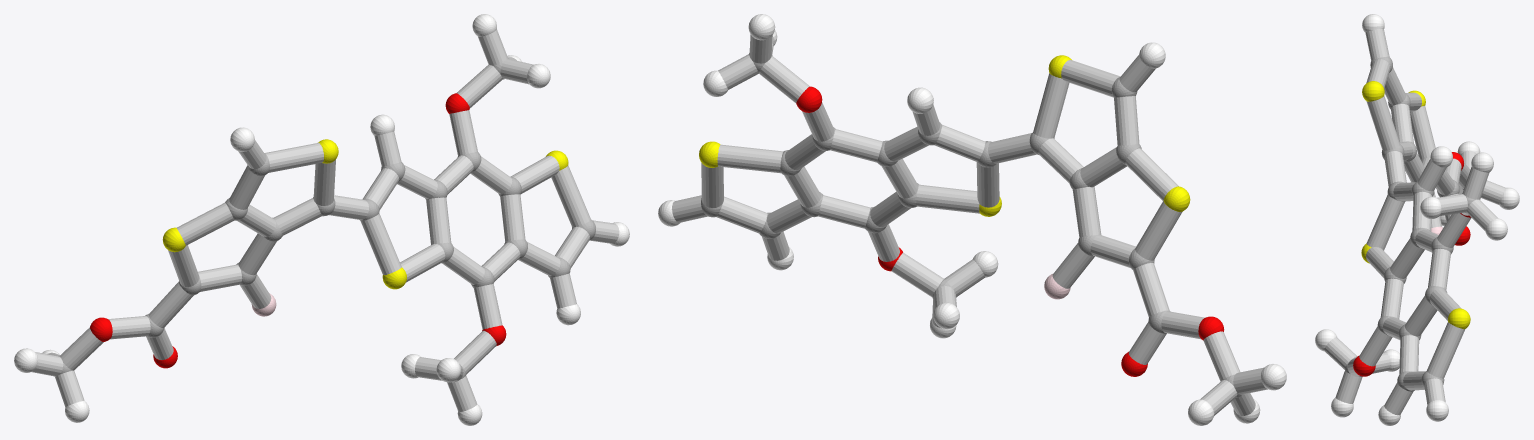
Rendered from color.glb.
The picture shows the model from 3 angles, left to right: view 1: azimuth 30°, elevation 25°; view 2: azimuth 150°, elevation 25°; view 3: azimuth 270°, elevation 25°; orthographic projection. The views are drawn at different scales.
Parts seen in each view (by area): view 1: grp15205, grp8689, grp1, grp7241, grp13395; view 2: grp15205, grp8689, grp1, grp7241, grp13395; view 3: grp15205, grp8689, grp1, grp7241, grp13395.
Boxes of the visible parts, box(x1,y1,x2,y2) form: grp15205: box(32, 29, 619, 411); grp8689: box(14, 14, 629, 425); grp1: box(54, 58, 595, 382); grp7241: box(162, 139, 568, 289); grp13395: box(90, 93, 506, 368); grp15205: box(671, 34, 1267, 415); grp8689: box(658, 14, 1286, 425); grp1: box(701, 53, 1242, 397); grp7241: box(699, 55, 1190, 216); grp13395: box(796, 86, 1224, 376); grp15205: box(1324, 29, 1505, 415); grp8689: box(1315, 14, 1519, 425); grp1: box(1345, 56, 1475, 391); grp7241: box(1361, 81, 1470, 329); grp13395: box(1353, 152, 1470, 376).
Bounding box in the file's own units: 16.7 × 8.99 × 5.42.
